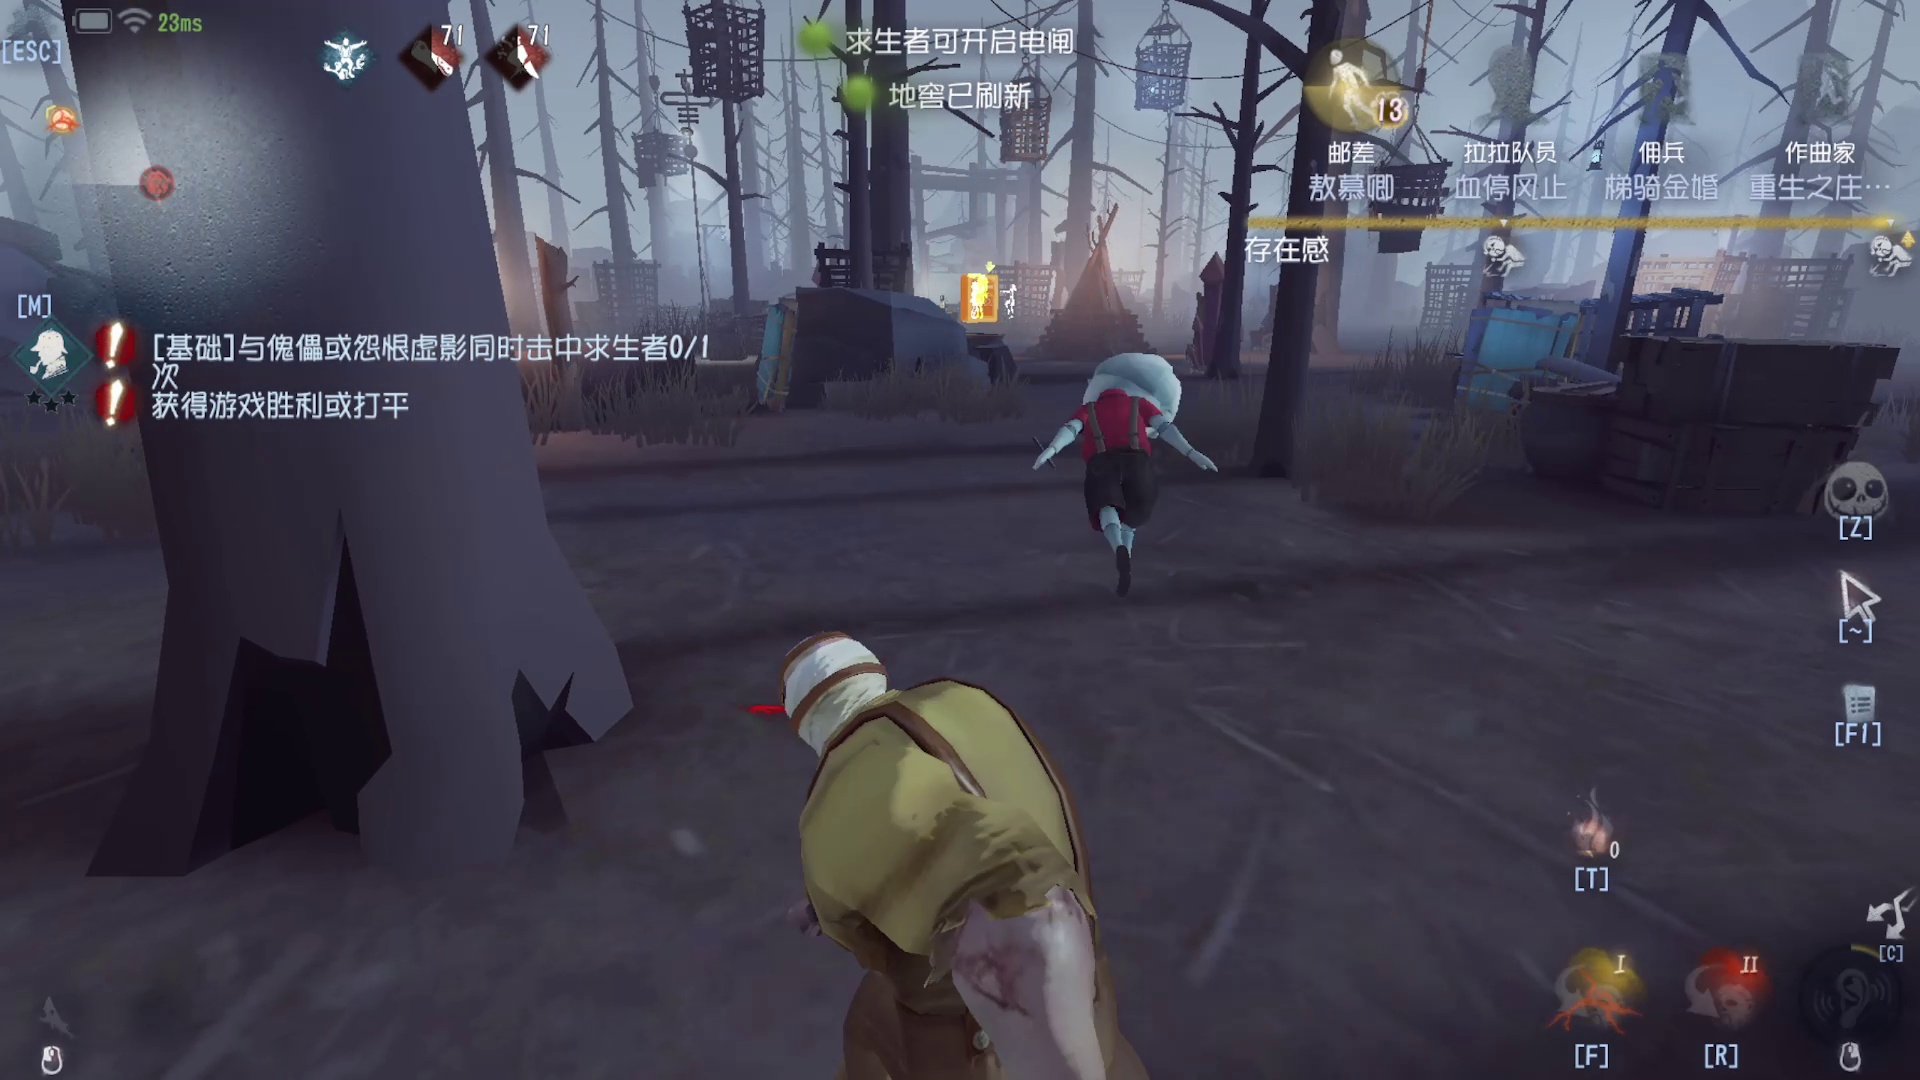木板: (1458, 284, 1586, 431), (742, 285, 847, 430)
狂欢之椅: (1170, 243, 1251, 388)
设置: (1, 1, 86, 80)
